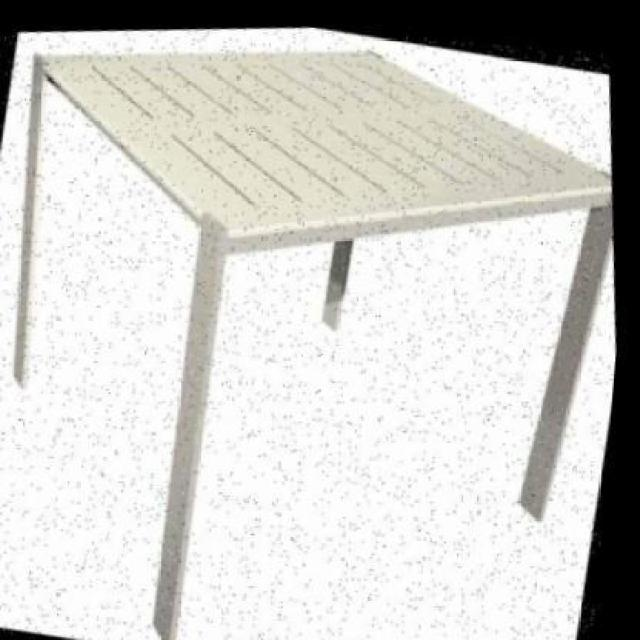tables: (0, 23, 617, 639)
